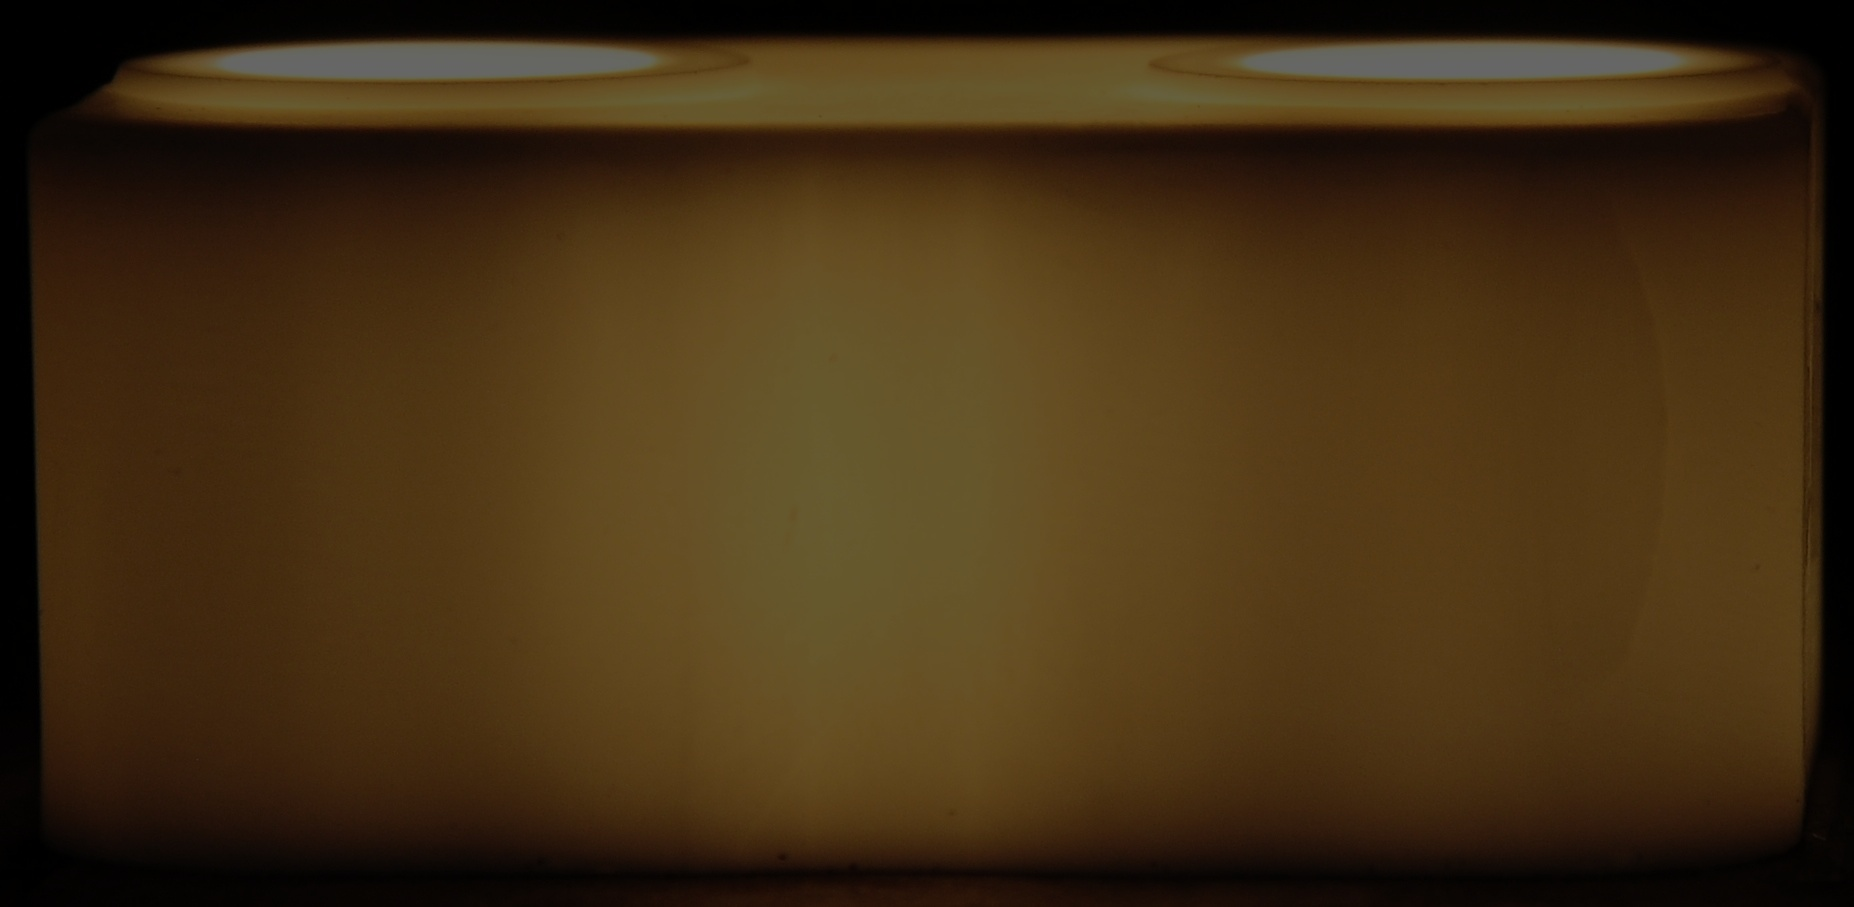flaw: (1564, 160, 1685, 732)
